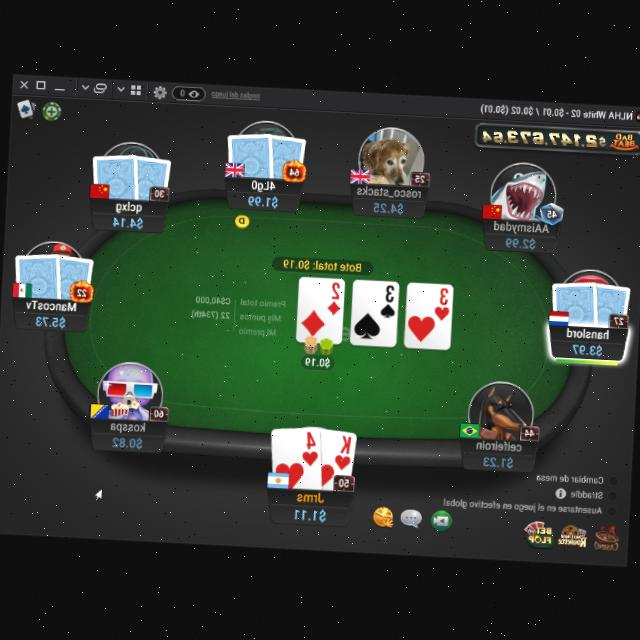2d: (325, 280, 343, 318)
3h: (430, 286, 452, 322)
3s: (378, 282, 398, 320)
4h: (300, 428, 321, 467)
Kh: (332, 433, 354, 470)
bet_text: (302, 354, 332, 370)
card_back: (546, 278, 602, 330), (224, 129, 276, 185), (89, 148, 142, 202), (11, 249, 65, 301), (48, 252, 96, 304), (586, 280, 632, 330), (264, 132, 310, 182), (126, 153, 172, 203)
dealer: (233, 212, 253, 230)
pot_text: (282, 257, 362, 273)
stack_text: (290, 506, 330, 525), (368, 198, 407, 216), (110, 212, 146, 230), (112, 433, 146, 451), (480, 454, 516, 471), (571, 341, 605, 359), (501, 234, 538, 250), (34, 313, 68, 329), (247, 193, 280, 209)
